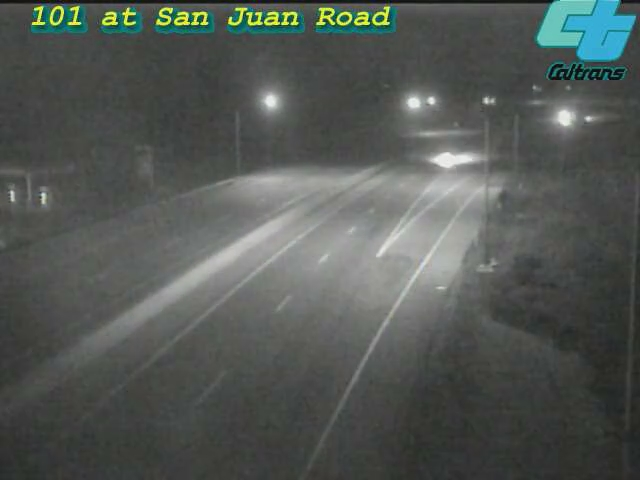vehicle: (557, 95, 607, 145), (539, 93, 589, 143), (423, 135, 473, 185), (464, 74, 514, 124)
